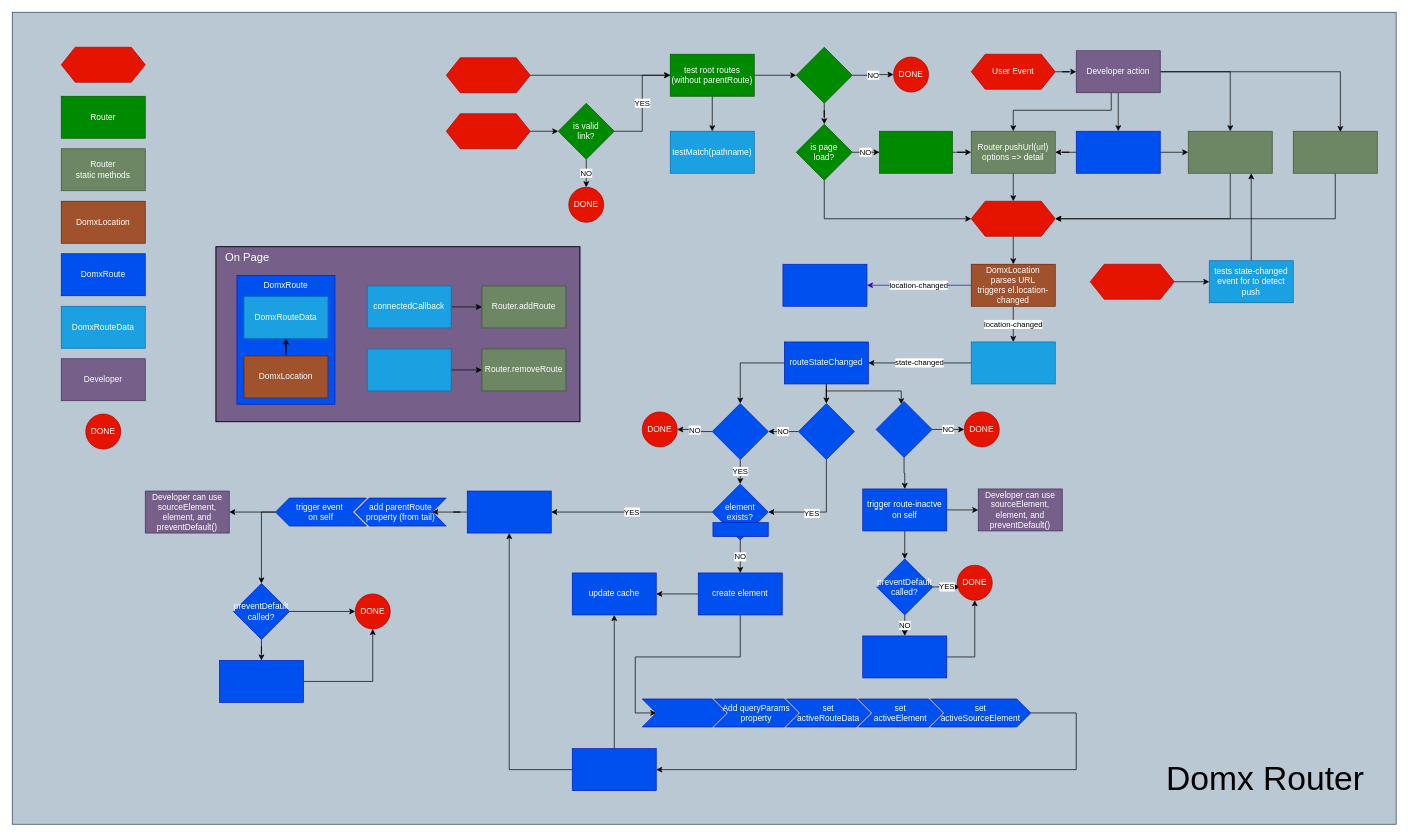
This 1408x837 diagram has some shape labels left out. Here are the shapes that lost their labels. From the top down, the centre of each, then its label:
(103,64): Entry
(488,75): Page Load
(824,75): match?
(488,131): body.click
(915,152): preventDefault()
(1118,152): route.navigate() options: push/repace
(1230,152): Router.replaceUrl(url) options => detail
(1335,152): Router. replaceUrlParams(url) options => detail
(1013,218): window. location-changed
(824,285): picks up sourceElement
(1132,281): Redux Dev Tools Pushed
(408,369): disconnected Callback
(1013,362): Sets state: matches, url, tail, routeData, queryParams
(740,431): routeData or tail changed
(826,431): active false to true
(903,429): active true to false?
(509,511): trigger route-active
(740,529): check cache
(904,656): remove from DOM and add to cache if needed
(261,681): Append to DOM using append-to
(684,712): Add routeData attributes
(614,769): add to cache
